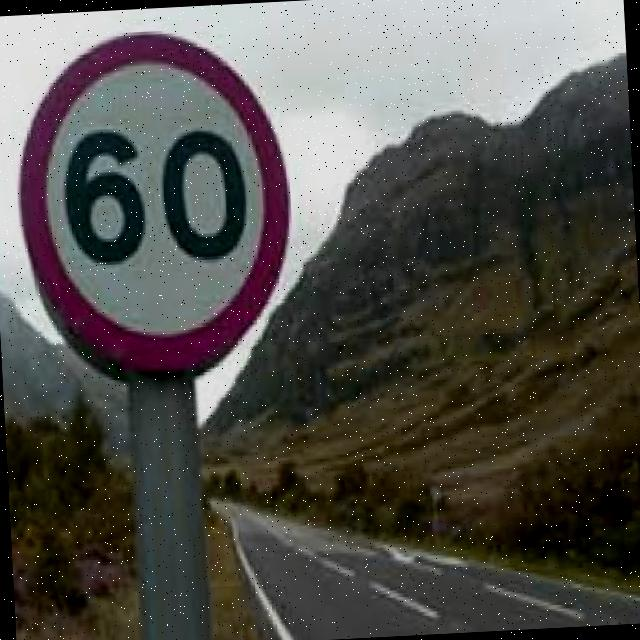Ograniczenie predkosci do 60: (17, 28, 296, 375)
